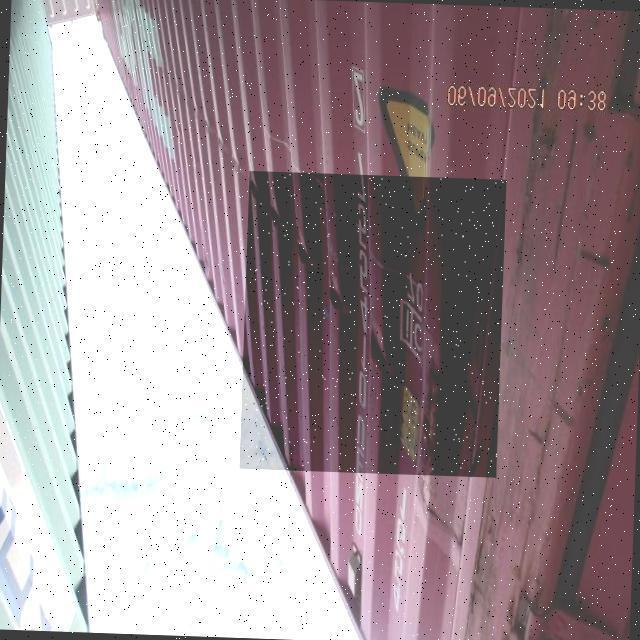dent: (240, 172, 507, 479)
